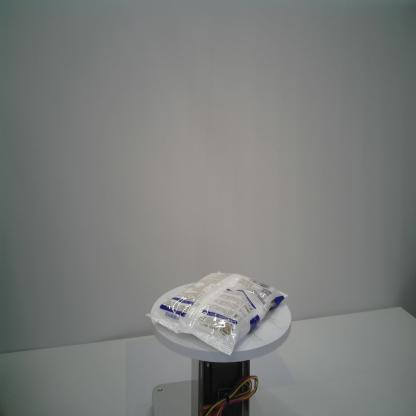Seasoner: (143, 268, 289, 358)
